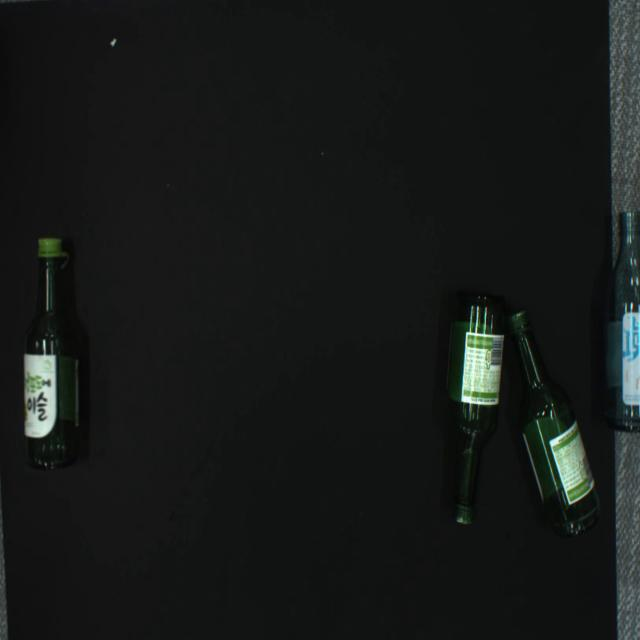soju-bottle: (506, 309, 602, 538), (444, 294, 506, 524), (24, 239, 80, 469), (603, 211, 640, 433)
